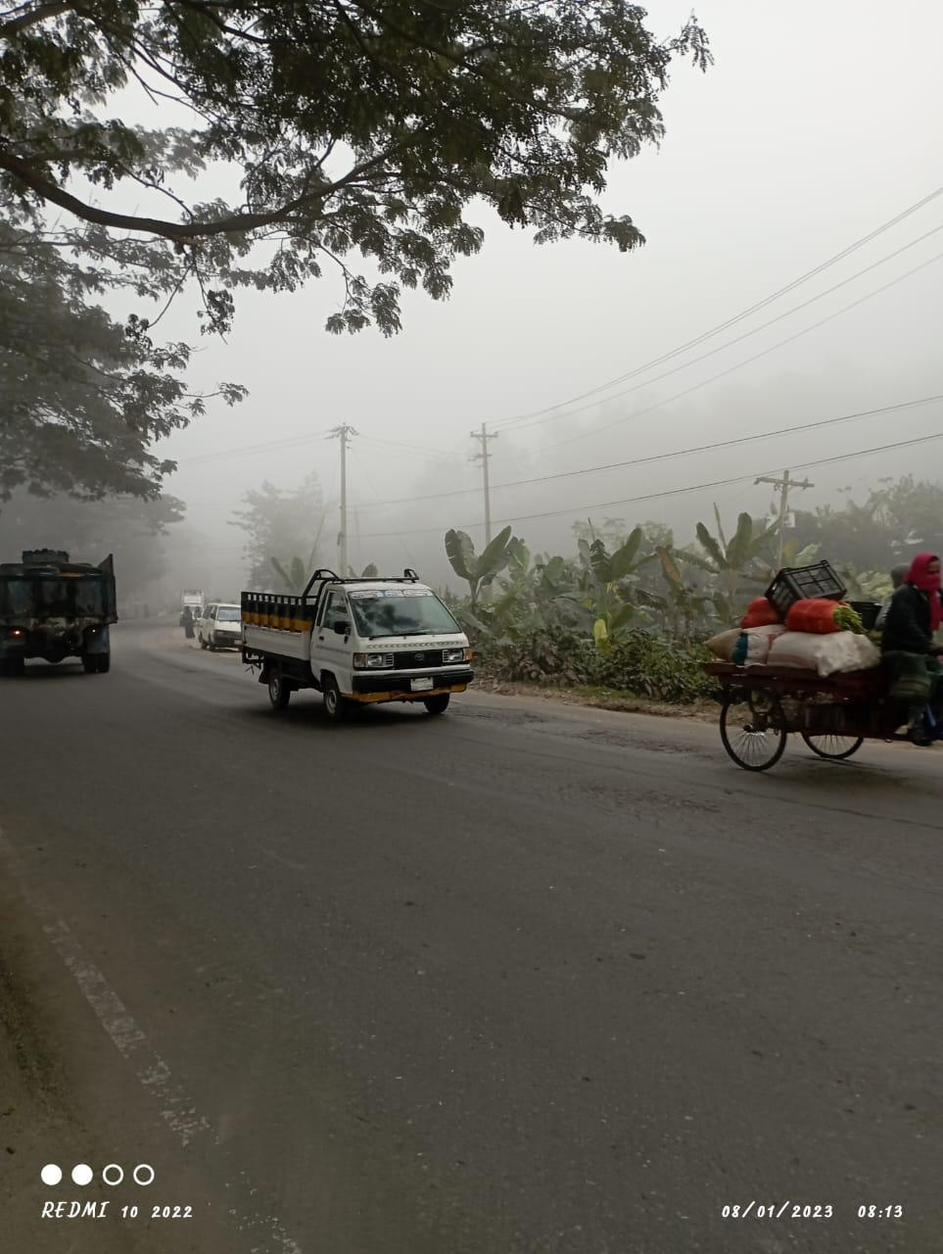Car: (194, 595, 237, 651)
Truck: (233, 564, 483, 724), (6, 540, 119, 671)
